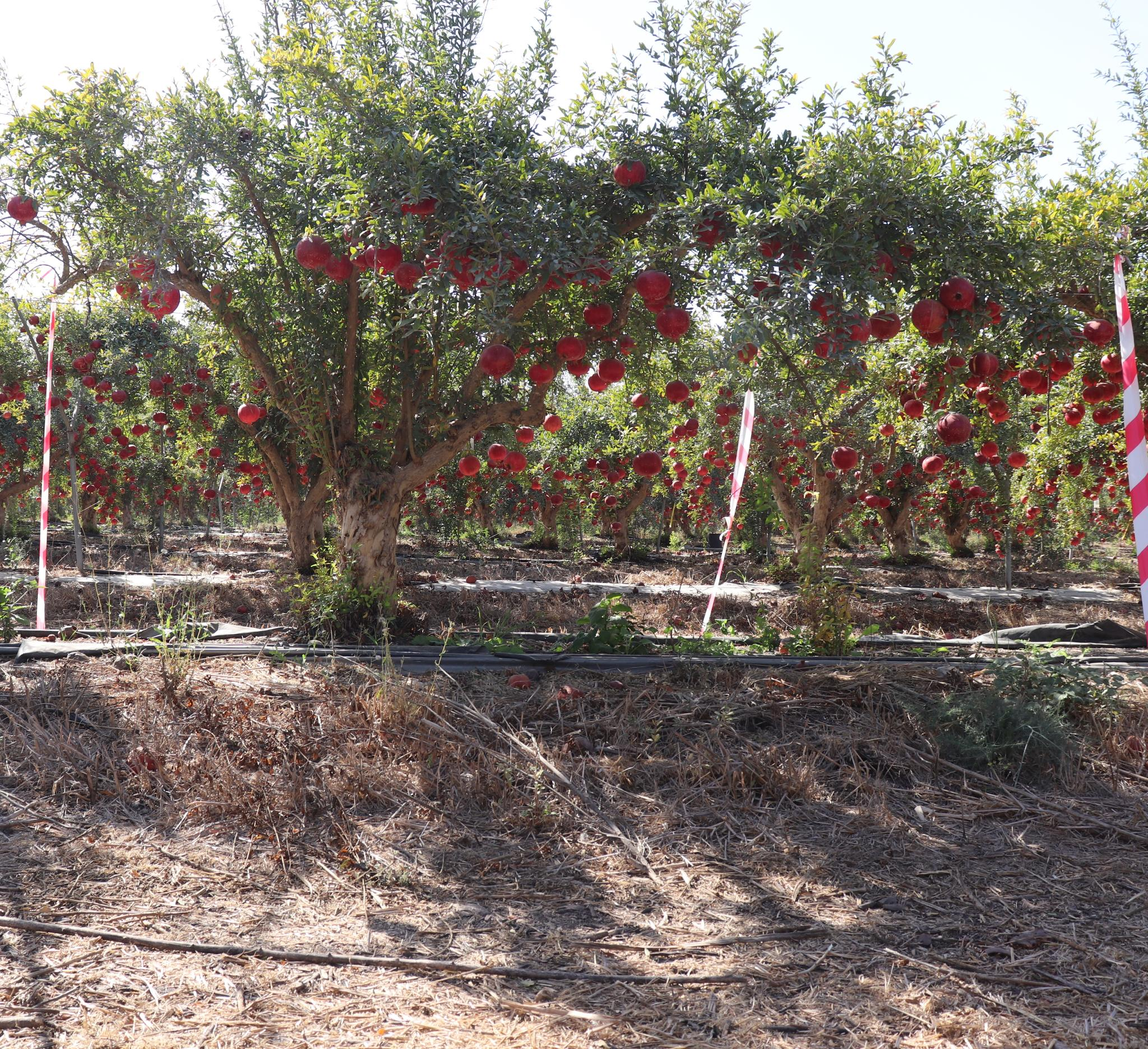defected: (969, 352, 999, 382), (127, 746, 159, 774), (571, 736, 594, 757), (557, 685, 583, 701), (508, 674, 531, 691), (59, 625, 79, 640), (779, 636, 795, 654), (48, 634, 56, 642)
